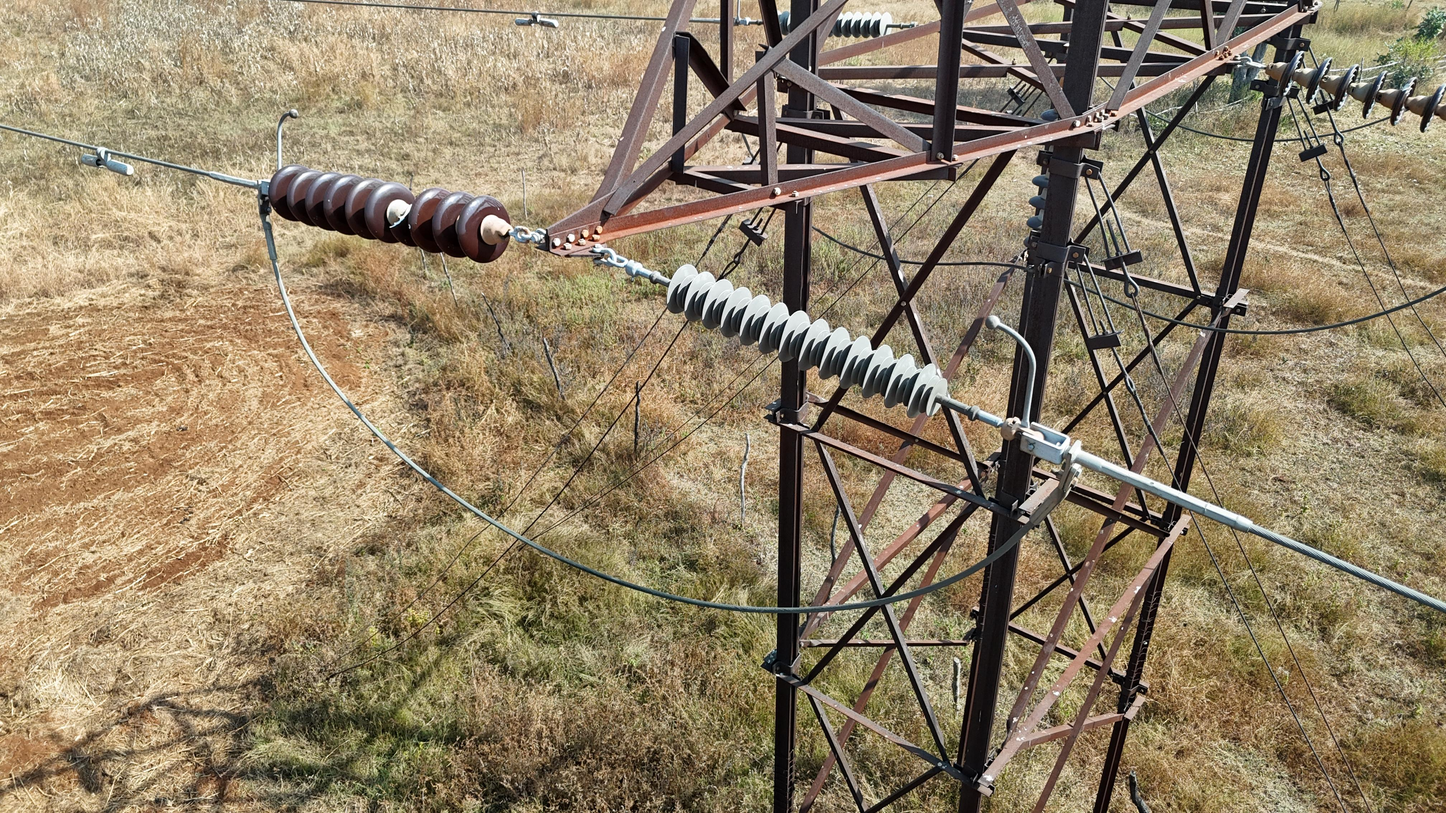broken_insulator: (384, 198, 414, 246)
